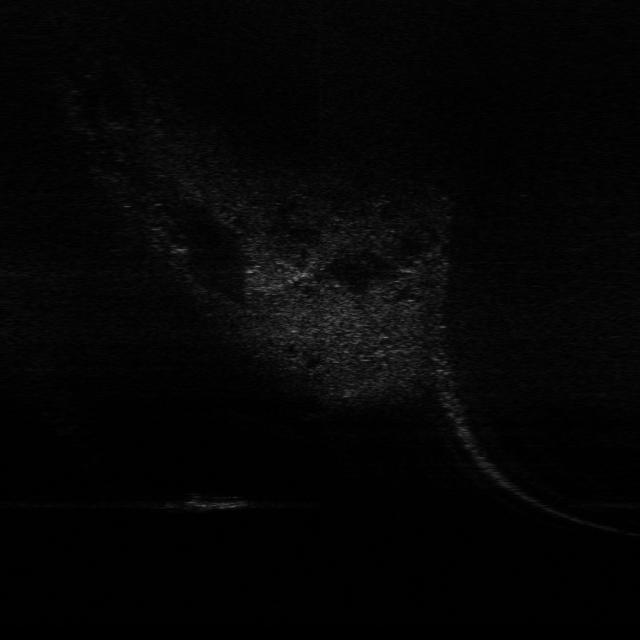cube: (167, 490, 251, 515)
